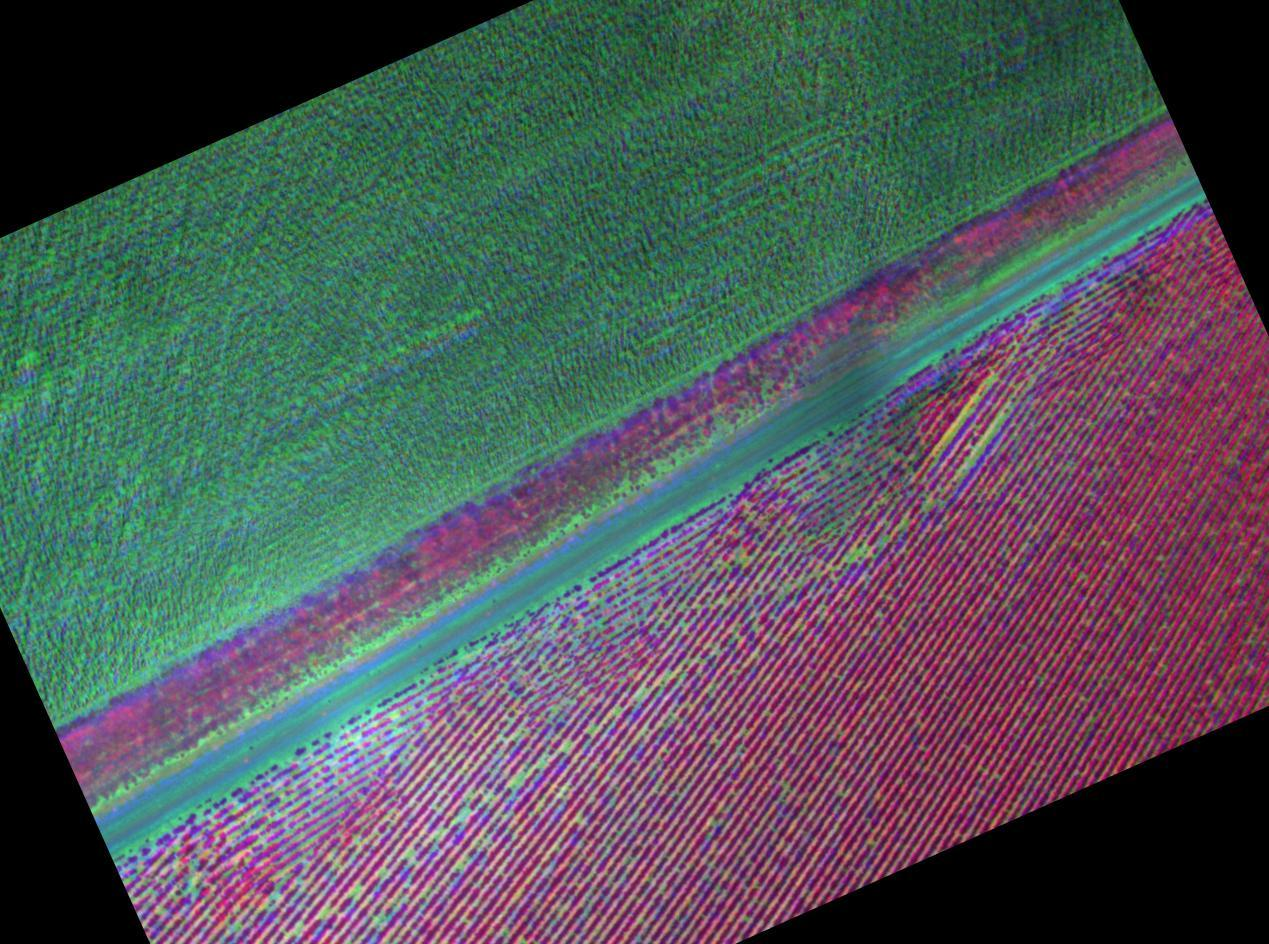dc: (855, 549, 861, 554), (460, 814, 465, 820), (190, 879, 195, 885), (354, 889, 359, 895), (283, 797, 288, 802), (457, 863, 462, 868), (983, 437, 989, 441), (665, 675, 669, 679), (274, 893, 278, 897), (395, 730, 399, 733)
